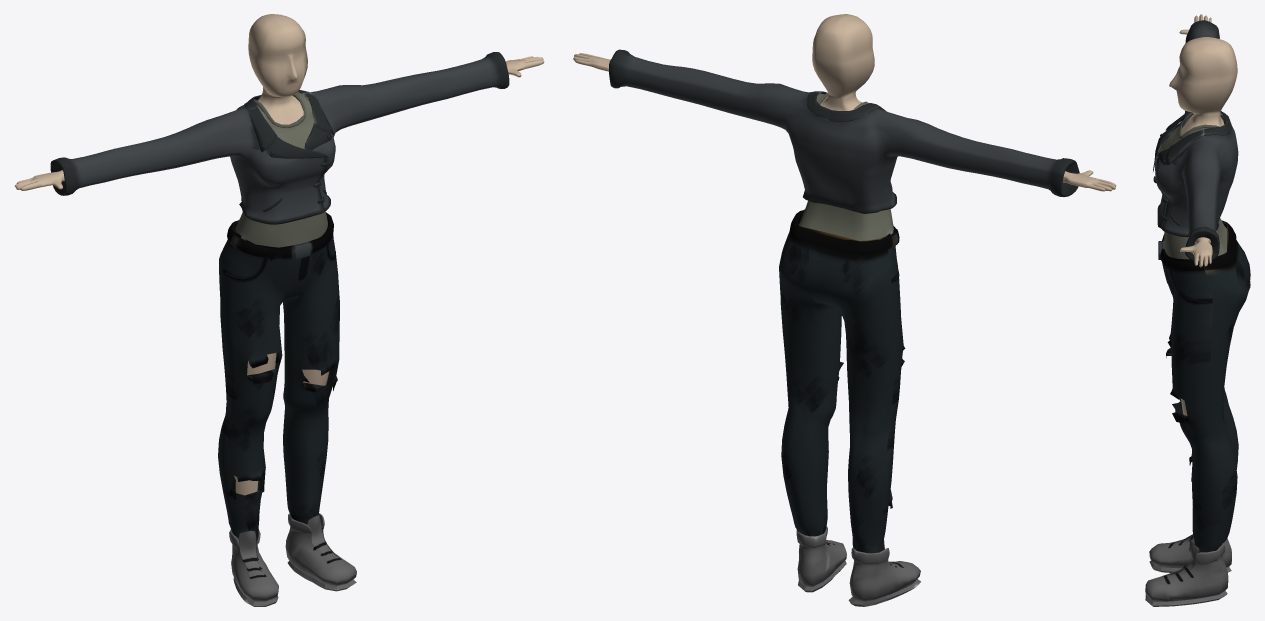
File: Female-folk-02.fbx
3 renders of one model, left to right at view 1: azimuth 30°, elevation 25°; view 2: azimuth 150°, elevation 25°; view 3: azimuth 270°, elevation 25°, orthographic. The views are drawn at different scales.
Visible parts, largest first — view 1: female_body1; view 2: female_body1; view 3: female_body1.
Boxes of the visible parts, left/top/right/bottom form: female_body1: left=14, top=14, right=544, bottom=606; female_body1: left=573, top=14, right=1116, bottom=606; female_body1: left=1145, top=14, right=1250, bottom=606.
Size of the model in its own units: 146 by 147 by 25.82.
